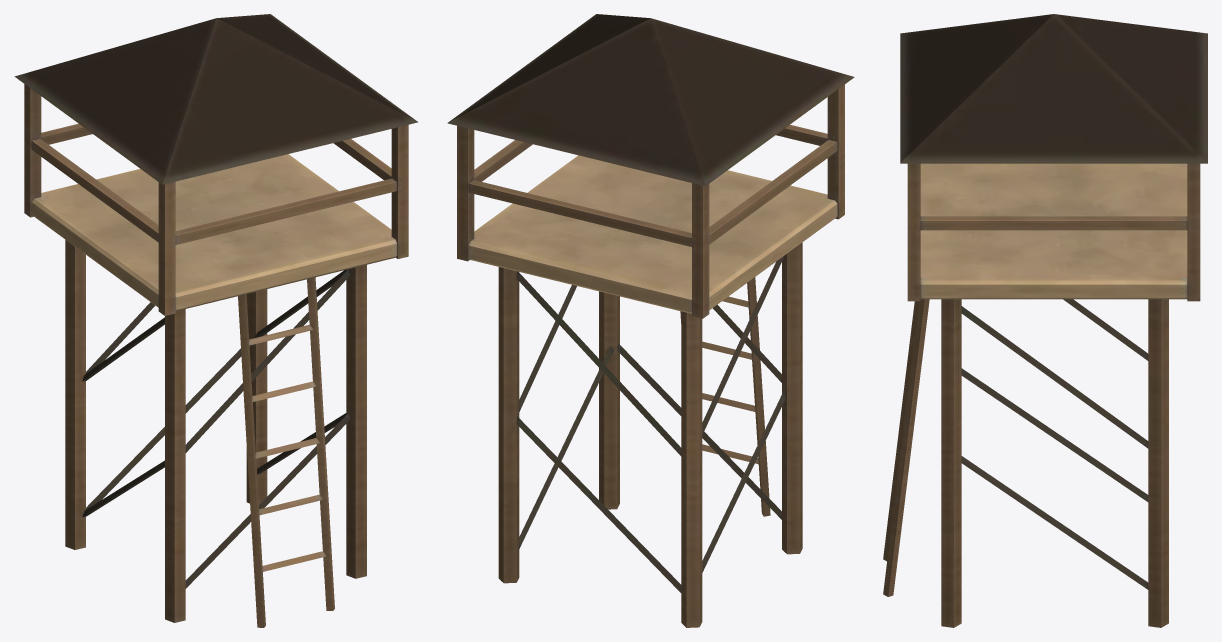
The model's file is watchtower-1-age10.glb.
3 views of the same model, side by side, from view 1: azimuth 30°, elevation 25°; view 2: azimuth 150°, elevation 25°; view 3: azimuth 270°, elevation 25° (orthographic). The views are drawn at different scales.
Parts seen in each view (by area): view 1: watchtower-1-age10; view 2: watchtower-1-age10; view 3: watchtower-1-age10.
Part boxes in pixels (bbox=[...]): watchtower-1-age10: bbox=[14, 14, 417, 627]; watchtower-1-age10: bbox=[447, 14, 854, 627]; watchtower-1-age10: bbox=[883, 14, 1207, 627].
Size of the model in its own units: 0.594 by 1.2 by 0.6269.
1 material, 1 textured.
